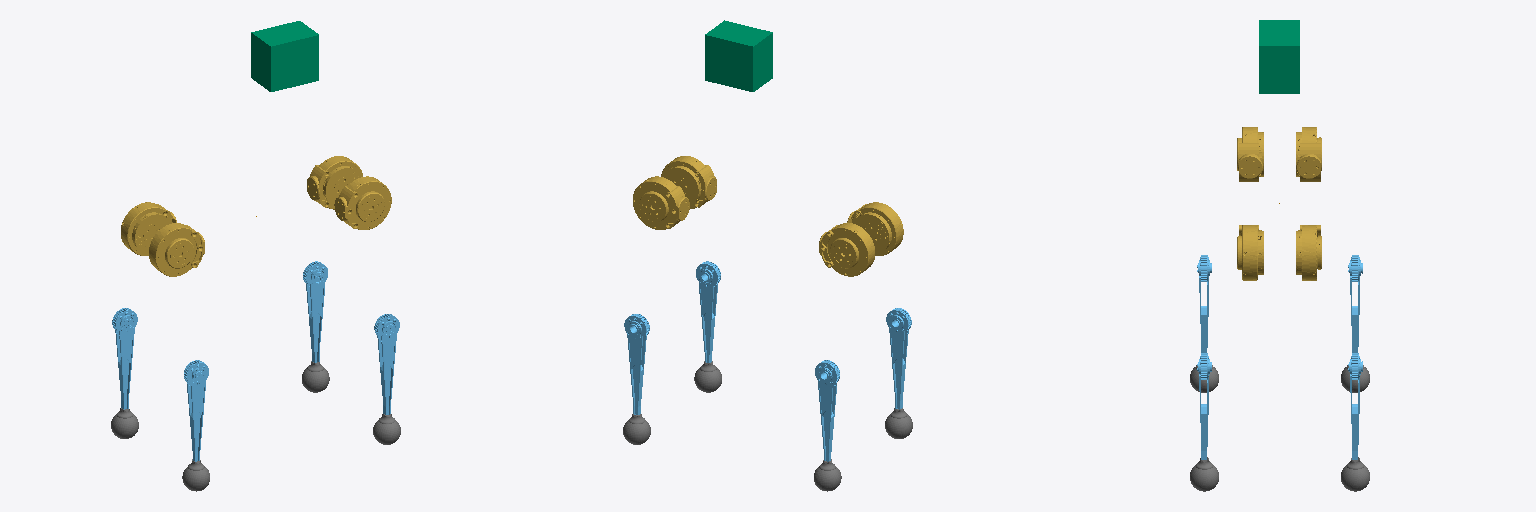
--- What the picture shows (computed from the rendered views, not written in the file) ---
3 views of the same robot in one strip: view 1: azimuth 30°, elevation 25°; view 2: azimuth 150°, elevation 25°; view 3: azimuth 270°, elevation 25° (orthographic).
Robot: yobotics — 20 links, 19 joints (12 revolute, 7 fixed); root link base; default pose: all joints at 0.
Links seen in each view (by area): view 1: camera_link, RR_hip, FR_hip, FL_hip, RL_hip, RL_calf, FR_calf, FL_calf, RR_calf, RL_foot, FR_foot, FL_foot (+1 smaller); view 2: camera_link, RL_hip, FL_hip, RR_hip, FR_hip, RR_calf, FL_calf, RL_calf, FR_calf, RR_foot, FL_foot, FR_foot (+1 smaller); view 3: camera_link, FR_hip, RR_hip, FL_hip, RL_hip, FL_calf, FR_calf, RL_calf, RR_calf, FL_foot, FR_foot.
Boxes of the visible links, bbox=[...] form: camera_link: bbox=[251, 21, 318, 91]; RR_hip: bbox=[149, 223, 204, 276]; FR_hip: bbox=[334, 176, 391, 229]; FL_hip: bbox=[307, 156, 362, 209]; RL_hip: bbox=[121, 202, 176, 255]; RL_calf: bbox=[112, 308, 137, 409]; FR_calf: bbox=[374, 314, 399, 414]; FL_calf: bbox=[303, 261, 327, 362]; RR_calf: bbox=[184, 360, 208, 461]; RL_foot: bbox=[111, 408, 138, 438]; FR_foot: bbox=[373, 414, 400, 444]; FL_foot: bbox=[302, 361, 329, 392]; camera_link: bbox=[705, 20, 772, 91]; RL_hip: bbox=[819, 223, 874, 276]; FL_hip: bbox=[633, 176, 689, 229]; RR_hip: bbox=[847, 202, 903, 255]; FR_hip: bbox=[661, 156, 716, 209]; RR_calf: bbox=[886, 308, 911, 409]; FL_calf: bbox=[624, 314, 649, 414]; RL_calf: bbox=[815, 360, 839, 461]; FR_calf: bbox=[696, 261, 720, 362]; RR_foot: bbox=[885, 408, 912, 438]; FL_foot: bbox=[623, 414, 650, 444]; FR_foot: bbox=[694, 361, 721, 392]; camera_link: bbox=[1259, 20, 1299, 93]; FR_hip: bbox=[1237, 225, 1263, 280]; RR_hip: bbox=[1237, 127, 1263, 181]; FL_hip: bbox=[1296, 225, 1321, 280]; RL_hip: bbox=[1296, 127, 1321, 181]; FL_calf: bbox=[1348, 353, 1362, 459]; FR_calf: bbox=[1197, 353, 1211, 459]; RL_calf: bbox=[1348, 255, 1362, 352]; RR_calf: bbox=[1197, 255, 1211, 352]; FL_foot: bbox=[1341, 457, 1369, 491]; FR_foot: bbox=[1190, 457, 1218, 491].
Size in the robot's own frame: 0.4859 by 0.3042 by 0.7861 metres.
Meshes: 5 distinct files referenced, 12 mesh visuals loaded (3 binary STL); not drawn: 5 (reference not matched to a file when rendering).

The robot description file, URDF, robot "yobotics":
<?xml version="1.0" ?>
<!-- =================================================================================== -->
<!-- |    This document was autogenerated by xacro from mrobot_with_kinect.urdf.xacro  | -->
<!-- |    EDITING THIS FILE BY HAND IS NOT RECOMMENDED                                 | -->
<!-- =================================================================================== -->
<robot name="yobotics" xmlns:xacro="http://www.ros.org/wiki/xacro">
  <!-- joint limits -->
  <!-- <xacro:property name="damping" value="0"/>
    <xacro:property name="friction" value="0"/>
    <xacro:property name="hip_max" value="120"/>
    <xacro:property name="hip_min" value="-120"/>
    <xacro:property name="hip_velocity_max" value="52.4"/>
    <xacro:property name="hip_torque_max" value="20"/>
    <xacro:property name="thigh_max" value="270"/>
    <xacro:property name="thigh_min" value="-270"/>
    <xacro:property name="thigh_velocity_max" value="28.6"/>
    <xacro:property name="thigh_torque_max" value="55"/>
    <xacro:property name="calf_max" value="155"/>
    <xacro:property name="calf_min" value="-155"/>
    <xacro:property name="calf_velocity_max" value="28.6"/>
    <xacro:property name="calf_torque_max" value="55"/> -->
  <material name="black">
    <color rgba="0.0 0.0 0.0 1.0"/>
  </material>
  <material name="blue">
    <color rgba="0.0 0.0 0.8 1.0"/>
  </material>
  <material name="green">
    <color rgba="0.0 0.8 0.0 1.0"/>
  </material>
  <material name="grey">
    <color rgba="0.2 0.2 0.2 1.0"/>
  </material>
  <material name="silver">
    <color rgba="0.913725490196 0.913725490196 0.847058823529 1.0"/>
  </material>
  <material name="orange">
    <color rgba="1.0 0.423529411765 0.0392156862745 1.0"/>
  </material>
  <material name="brown">
    <color rgba="0.870588235294 0.811764705882 0.764705882353 1.0"/>
  </material>
  <material name="white_gray">
    <color rgba="0.823529411765 0.823529411765 0.823529411765 1.0"/>
  </material>
  <material name="gold">
    <color rgba="0.811764705882 0.678431372549 0.301960784314 1.0"/>
  </material>
  <material name="white_blue">
    <color rgba="0.462745098039 0.8 0.992156862745 1.0"/>
  </material>
  <material name="white_black">
    <color rgba="0.494117647059 0.494117647059 0.494117647059 1.0"/>
  </material>
  <material name="red">
    <color rgba="0.8 0.0 0.0 1.0"/>
  </material>
  <material name="white">
    <color rgba="1.0 1.0 1.0 1.0"/>
  </material>
  <!-- ros_control plugin -->
  <gazebo>
    <plugin filename="libgazebo_ros_control.so" name="gazebo_ros_control">
      <robotNamespace>/yobotics_gazebo</robotNamespace>
      <robotSimType>gazebo_ros_control/DefaultRobotHWSim</robotSimType>
    </plugin>
  </gazebo>
  <!-- Show the trajectory of trunk center. -->
  <gazebo>
    <plugin filename="libLinkPlot3DPlugin.so" name="3dplot">
      <frequency>10</frequency>
      <plot>
        <link>base</link>
        <pose>0 0 0 0 0 0</pose>
        <material>Gazebo/Yellow</material>
      </plot>
    </plugin>
  </gazebo>
  <!-- Show the trajectory of foot. You can add another trajectory about another foot. -->
  <!-- <gazebo>
        <plugin name="3dplot" filename="libLinkPlot3DPlugin.so">
            <frequency>100</frequency>
            <plot>
                <link>FL_foot</link>
                <pose>0 0 0 0 0 0</pose>
                <material>Gazebo/Green</material>
            </plot>
        </plugin>
    </gazebo> -->
  <!-- <gazebo>
        <plugin name="${link_name}_controller" filename="libgazebo_ros_openni_kinect.so">
            <baseline>0.2</baseline>
            <alwaysOn>true</alwaysOn>
            <updateRate>2.0</updateRate>
            <cameraName>${camera_name}_ir</cameraName>
            <imageTopicName>/${camera_name}/depth/image_raw</imageTopicName>
            <cameraInfoTopicName>/${camera_name}/depth/camera_info</cameraInfoTopicName>
            <depthImageTopicName>/${camera_name}/depth/image_raw</depthImageTopicName>
            <depthImageInfoTopicName>/${camera_name}/depth/camera_info</depthImageInfoTopicName>
            <pointCloudTopicName>/${camera_name}/depth/points</pointCloudTopicName>
            <frameName>${frame_name}</frameName>
            <pointCloudCutoff>0.5</pointCloudCutoff>
            <distortionK1>0.00000001</distortionK1>
            <distortionK2>0.00000001</distortionK2>
            <distortionK3>0.00000001</distortionK3>
            <distortionT1>0.00000001</distortionT1>
            <distortionT2>0.00000001</distortionT2>
            <CxPrime>0</CxPrime>
            <Cx>0</Cx>
            <Cy>0</Cy>
            <focalLength>0</focalLength>
            <hackBaseline>0</hackBaseline>
        </plugin>
    </gazebo> -->
  <gazebo>
    <plugin filename="libgazebo_ros_force.so" name="gazebo_ros_force">
      <bodyName>trunk</bodyName>
      <topicName>/apply_force/trunk</topicName>
    </plugin>
  </gazebo>
  <gazebo reference="imu_link">
    <gravity>true</gravity>
    <sensor name="imu_sensor" type="imu">
      <always_on>true</always_on>
      <update_rate>1000</update_rate>
      <visualize>true</visualize>
      <topic>__default_topic__</topic>
      <plugin filename="libgazebo_ros_imu_sensor.so" name="imu_plugin">
        <topicName>trunk_imu</topicName>
        <bodyName>imu_link</bodyName>
        <updateRateHZ>1000.0</updateRateHZ>
        <gaussianNoise>0.0</gaussianNoise>
        <xyzOffset>0 0 0</xyzOffset>
        <rpyOffset>0 0 0</rpyOffset>
        <frameName>imu_link</frameName>
      </plugin>
      <pose>0 0 0 0 0 0</pose>
    </sensor>
  </gazebo>
  <gazebo>
    <plugin filename="libgazebo_ros_p3d.so" name="p3d_base_controller">
      <alwaysOn>true</alwaysOn>
      <updateRate>50.0</updateRate>
      <bodyName>base</bodyName>
      <topicName>odom/ground_truth</topicName>
      <gaussianNoise>0.01</gaussianNoise>
      <frameName>world</frameName>
      <xyzOffsets>0 0 0</xyzOffsets>
      <rpyOffsets>0 0 0</rpyOffsets>
    </plugin>
  </gazebo>
  <gazebo>
    <plugin filename="libgazebo_ros_control.so" name="gazebo_ros_control">
      <legacyModeNS>true</legacyModeNS>
    </plugin>
  </gazebo>
  <!-- Foot contacts. -->
  <!-- <gazebo reference="FR_calf">
        <sensor name="FR_foot_contact" type="contact">
        <update_rate>100</update_rate>
        <plugin name="contactPlugin" filename="libyoboticsFootContactPlugin.so"/>
        <contact>
            <collision>FR_calf_fixed_joint_lump__FR_foot_collision_1</collision>
        </contact>
        </sensor>
    </gazebo>
    <gazebo reference="FL_calf">
        <sensor name="FL_foot_contact" type="contact">
        <update_rate>100</update_rate>
        <plugin name="contactPlugin" filename="libyoboticsFootContactPlugin.so"/>
        <contact>
            <collision>FL_calf_fixed_joint_lump__FL_foot_collision_1</collision>
        </contact>
        </sensor>
    </gazebo>
    <gazebo reference="RR_calf">
        <sensor name="RR_foot_contact" type="contact">
        <update_rate>100</update_rate>
        <plugin name="contactPlugin" filename="libyoboticsFootContactPlugin.so"/>
        <contact>
            <collision>RR_calf_fixed_joint_lump__RR_foot_collision_1</collision>
        </contact>
        </sensor>
    </gazebo>
    <gazebo reference="RL_calf">
        <sensor name="RL_foot_contact" type="contact">
        <update_rate>100</update_rate>
        <plugin name="contactPlugin" filename="libyoboticsFootContactPlugin.so"/>
        <contact>
            <collision>RL_calf_fixed_joint_lump__RL_foot_collision_1</collision>
        </contact>
        </sensor>
    </gazebo>   -->
  <!-- Visualization of Foot contacts. -->
  <!-- <gazebo reference="FR_foot">
        <visual>
            <plugin name="drawForcePlugin" filename="libyoboticsDrawForcePlugin.so">
                <topicName>FR_foot_contact</topicName>
            </plugin>
        </visual>
    </gazebo>
    <gazebo reference="FL_foot">
        <visual>
            <plugin name="drawForcePlugin" filename="libyoboticsDrawForcePlugin.so">
                <topicName>FL_foot_contact</topicName>
            </plugin>
        </visual>
    </gazebo>
    <gazebo reference="RR_foot">
        <visual>
            <plugin name="drawForcePlugin" filename="libyoboticsDrawForcePlugin.so">
                <topicName>RR_foot_contact</topicName>
            </plugin>
        </visual>
    </gazebo>
    <gazebo reference="RL_foot">
        <visual>
            <plugin name="drawForcePlugin" filename="libyoboticsDrawForcePlugin.so">
                <topicName>RL_foot_contact</topicName>
            </plugin>
        </visual>
    </gazebo>  -->
  <gazebo reference="base">
    <material>Gazebo/Green</material>
    <turnGravityOff>false</turnGravityOff>
  </gazebo>
  <gazebo reference="trunk">
    <mu1>0.9</mu1>
    <mu2>0.9</mu2>
    <kp value="1000000.0"/>
    <kd value="1.0"/>
  </gazebo>
  <gazebo reference="stick_link">
    <mu1>0.9</mu1>
    <mu2>0.9</mu2>
    <material>Gazebo/White</material>
  </gazebo>
  <gazebo reference="imu_link">
    <mu1>0.9</mu1>
    <mu2>0.9</mu2>
    <material>Gazebo/Red</material>
  </gazebo>
  <!-- FL leg -->
  <gazebo reference="FL_hip">
    <mu1>0.9</mu1>
    <mu2>0.9</mu2>
    <!-- <material>Gazebo/DarkGrey</material> -->
  </gazebo>
  <gazebo reference="FL_thigh">
    <mu1>0.9</mu1>
    <mu2>0.9</mu2>
    <self_collide>1</self_collide>
    <material>Gazebo/White</material>
    <kp value="1000000.0"/>
    <kd value="1.0"/>
  </gazebo>
  <gazebo reference="FL_calf">
    <mu1>0.9</mu1>
    <mu2>0.9</mu2>
    <self_collide>1</self_collide>
  </gazebo>
  <gazebo reference="FL_foot">
    <mu1>0.9</mu1>
    <mu2>0.9</mu2>
    <self_collide>1</self_collide>
    <material>Gazebo/DarkGrey</material>
    <kp value="1000000.0"/>
    <kd value="1.0"/>
  </gazebo>
  <!-- FR leg -->
  <gazebo reference="FR_hip">
    <mu1>0.9</mu1>
    <mu2>0.9</mu2>
    <!-- <material>Gazebo/DarkGrey</material> -->
  </gazebo>
  <gazebo reference="FR_thigh">
    <mu1>0.9</mu1>
    <mu2>0.9</mu2>
    <self_collide>1</self_collide>
    <material>Gazebo/White</material>
    <kp value="1000000.0"/>
    <kd value="1.0"/>
  </gazebo>
  <gazebo reference="FR_calf">
    <mu1>0.9</mu1>
    <mu2>0.9</mu2>
    <self_collide>1</self_collide>
  </gazebo>
  <gazebo reference="FR_foot">
    <mu1>0.9</mu1>
    <mu2>0.9</mu2>
    <self_collide>1</self_collide>
    <material>Gazebo/DarkGrey</material>
    <kp value="1000000.0"/>
    <kd value="1.0"/>
  </gazebo>
  <!-- RL leg -->
  <gazebo reference="RL_hip">
    <mu1>0.9</mu1>
    <mu2>0.9</mu2>
    <!-- <material>Gazebo/DarkGrey</material> -->
  </gazebo>
  <gazebo reference="RL_thigh">
    <mu1>0.9</mu1>
    <mu2>0.9</mu2>
    <self_collide>1</self_collide>
    <material>Gazebo/White</material>
    <kp value="1000000.0"/>
    <kd value="1.0"/>
  </gazebo>
  <gazebo reference="RL_calf">
    <mu1>0.9</mu1>
    <mu2>0.9</mu2>
    <self_collide>1</self_collide>
  </gazebo>
  <gazebo reference="RL_foot">
    <mu1>0.9</mu1>
    <mu2>0.9</mu2>
    <self_collide>1</self_collide>
    <material>Gazebo/DarkGrey</material>
    <kp value="1000000.0"/>
    <kd value="1.0"/>
  </gazebo>
  <!-- RR leg -->
  <gazebo reference="RR_hip">
    <mu1>0.9</mu1>
    <mu2>0.9</mu2>
    <!-- <material>Gazebo/Gold</material> -->
  </gazebo>
  <gazebo reference="RR_thigh">
    <mu1>0.9</mu1>
    <mu2>0.9</mu2>
    <self_collide>1</self_collide>
    <material>Gazebo/White</material>
    <kp value="1000000.0"/>
    <kd value="1.0"/>
  </gazebo>
  <gazebo reference="RR_calf">
    <mu1>0.9</mu1>
    <mu2>0.9</mu2>
    <self_collide>1</self_collide>
  </gazebo>
  <gazebo reference="RR_foot">
    <mu1>0.9</mu1>
    <mu2>0.9</mu2>
    <self_collide>1</self_collide>
    <material>Gazebo/DarkGrey</material>
    <kp value="1000000.0"/>
    <kd value="1.0"/>
  </gazebo>
  <!-- Debug mode will hung up the robot, use "true" or "false" to switch it. -->
  <link name="base">
    <visual>
      <origin rpy="0 0 0" xyz="0 0 0"/>
      <geometry>
        <box size="0.001 0.001 0.001"/>
      </geometry>
    </visual>
  </link>
  <joint name="floating_base" type="fixed">
    <origin rpy="0 0 0" xyz="0 0 0"/>
    <parent link="base"/>
    <child link="trunk"/>
  </joint>
  <link name="trunk">
    <visual>
      <origin rpy="0 0 0" xyz="0 0 0"/>
      <geometry>
        <mesh filename="package://yobotics_description/meshes/trunk.STL" scale="1 1 1"/>
      </geometry>
      <material name="white_gray"/>
    </visual>
    <collision>
      <origin rpy="0 0 0" xyz="0 0 0.04592"/>
      <geometry>
        <mesh filename="package://yobotics_description/meshes/trunk.STL" scale="1 1 1"/>
        <!-- <box size="${trunk_length} ${trunk_width} ${trunk_height}"/> -->
      </geometry>
    </collision>
    <inertial>
      <origin rpy="0 0 0" xyz="0.0 0.0 0.0"/>
      <mass value="3.3"/>
      <inertia ixx="0.011253" ixy="0" ixz="0.0" iyy="0.036203" iyz="-0.0" izz="0.042673"/>
    </inertial>
  </link>
  <!-- //////////////////////hip//////////////////// -->
  <joint name="RL_hip_joint" type="revolute">
    <!-- <joint name="${name}_hip_joint" type="continuous"> -->
    <origin rpy="0 0 0" xyz="-0.196 0.049664 0"/>
    <parent link="trunk"/>
    <child link="RL_hip"/>
    <axis xyz="1 0 0"/>
    <dynamics damping="0" friction="0"/>
    <limit effort="15" lower="-0.872664625997" upper="1.0471975512" velocity="1.5"/>
  </joint>
  <link name="RL_hip">
    <visual>
      <origin rpy="3.14159265359 0 0" xyz="0 0 0"/>
      <geometry>
        <mesh filename="package://yobotics_description/meshes/hip.STL" scale="1 1 1"/>
      </geometry>
      <material name="gold"/>
    </visual>
    <collision>
      <origin rpy="3.14159265359 0 0" xyz="0 0 0"/>
      <geometry>
        <mesh filename="package://yobotics_description/meshes/hip.STL" scale="1 1 1"/>
      </geometry>
    </collision>
    <inertial>
      <origin rpy="0 0 0" xyz="0.0 -0.036 0.0"/>
      <mass value="0.57"/>
      <inertia ixx="0.000381" ixy="-5.8e-05" ixz="4.5e-07" iyy="0.00056" iyz="-9.5e-07" izz="0.000444"/>
    </inertial>
  </link>
  <!-- //////////////////////thigh//////////////////// -->
  <joint name="RL_thigh_joint" type="revolute">
    <!-- <joint name="${name}_thigh_joint" type="continuous"> -->
    <origin rpy="0 0 0" xyz="0 0.077476 0"/>
    <parent link="RL_hip"/>
    <child link="RL_thigh"/>
    <axis xyz="0 1 0"/>
    <dynamics damping="0" friction="0"/>
    <limit effort="15" lower="-0.523598775598" upper="3.92699081699" velocity="1.5"/>
  </joint>
  <link name="RL_thigh">
    <visual>
      <origin rpy="3.14159265359 3.14159265359 0" xyz="0 0 0"/>
      <geometry>
        <mesh filename="package://yobotics_description/meshes/thigh.STL" scale="1 1 1"/>
      </geometry>
      <material name="white_blue"/>
    </visual>
    <collision>
      <origin rpy="3.14159265359 3.14159265359 0" xyz="0 0 0"/>
      <geometry>
        <mesh filename="package://yobotics_description/meshes/thigh.STL" scale="1 1 1"/>
      </geometry>
      <material name="white_blue"/>
    </collision>
    <inertial>
      <origin rpy="0 0 0" xyz="0.0 -0.016 -0.02"/>
      <mass value="0.634"/>
      <inertia ixx="0.001983" ixy="-0.000245" ixz="1.3e-05" iyy="0.002103" iyz="-1.5e-06" izz="0.000408"/>
    </inertial>
  </link>
  <!-- //////////////////////calf//////////////////// -->
  <joint name="RL_calf_joint" type="revolute">
    <!-- <joint name="${name}_calf_joint" type="continuous"> -->
    <origin rpy="0 0 0" xyz="0 0.0106 -0.2115"/>
    <parent link="RL_thigh"/>
    <child link="RL_calf"/>
    <axis xyz="0 1 0"/>
    <dynamics damping="0" friction="0"/>
    <!-- <limit effort="${calf_torque_max}" velocity="${calf_velocity_max}" lower="${calf_min*PI/180.0}" upper="${calf_max*PI/180.0}"/> -->
    <limit effort="15" lower="-3.14159265359" upper="3.14159265359" velocity="1.5"/>
  </joint>
  <link name="RL_calf">
    <visual>
      <origin rpy="0 0 0" xyz="0.0 0.0 0.0"/>
      <geometry>
        <mesh filename="package://yobotics_description/meshes/calf.STL" scale="1 1 1"/>
      </geometry>
      <material name="white_blue"/>
    </visual>
    <collision>
      <origin rpy="0 0 0" xyz="0.0 0.0 0.0"/>
      <geometry>
        <mesh filename="package://yobotics_description/meshes/calf.STL" scale="1 1 1"/>
      </geometry>
    </collision>
    <inertial>
      <origin rpy="0 0 0" xyz="0.0 0.0 -0.209"/>
      <mass value="0.064"/>
      <inertia ixx="0.000245" ixy="0.0" ixz="0.0" iyy="0.000248" iyz="0.0" izz="6e-06"/>
    </inertial>
  </link>
  <!-- //////////////////////foot//////////////////// -->
  <joint name="RL_foot_fixed" type="fixed">
    <origin rpy="0 0 0" xyz="0 0.0096 -0.21039"/>
    <parent link="RL_calf"/>
    <child link="RL_foot"/>
  </joint>
  <link name="RL_foot">
    <visual>
      <origin rpy="0 0 0" xyz="0 0 0"/>
      <geometry>
        <mesh filename="package://yobotics_description/meshes/foot.STL" scale="1 1 1"/>
      </geometry>
      <material name="white_black"/>
    </visual>
    <collision>
      <origin rpy="0 0 0" xyz="0 0 0"/>
      <geometry>
        <mesh filename="package://yobotics_description/meshes/foot.STL" scale="1 1 1"/>
      </geometry>
    </collision>
    <inertial>
      <origin rpy="0 0 0" xyz="0.0 0.0 0"/>
      <mass value="0.15"/>
      <inertia ixx="2.5e-05" ixy="0.0" ixz="0.0" iyy="2.5e-05" iyz="0.0" izz="2.5e-05"/>
    </inertial>
  </link>
  <transmission name="RL_hip_tran">
    <type>transmission_interface/SimpleTransmission</type>
    <joint name="RL_hip_joint">
      <hardwareInterface>EffortJointInterface</hardwareInterface>
    </joint>
    <actuator name="RL_hip_motor">
      <hardwareInterface>EffortJointInterface</hardwareInterface>
      <mechanicalReduction>1</mechanicalReduction>
    </actuator>
  </transmission>
  <transmission name="RL_thigh_tran">
    <type>transmission_interface/SimpleTransmission</type>
    <joint name="RL_thigh_joint">
      <hardwareInterface>EffortJointInterface</hardwareInterface>
    </joint>
    <actuator name="RL_thigh_motor">
      <hardwareInterface>EffortJointInterface</hardwareInterface>
      <mechanicalReduction>1</mechanicalReduction>
    </actuator>
  </transmission>
  <transmission name="RL_calf_tran">
    <type>transmission_interface/SimpleTransmission</type>
    <joint name="RL_calf_joint">
      <hardwareInterface>EffortJointInterface</hardwareInterface>
    </joint>
    <actuator name="RL_calf_motor">
      <hardwareInterface>EffortJointInterface</hardwareInterface>
      <mechanicalReduction>1</mechanicalReduction>
    </actuator>
  </transmission>
  <!-- //////////////////////hip//////////////////// -->
  <joint name="FL_hip_joint" type="revolute">
    <!-- <joint name="${name}_hip_joint" type="continuous"> -->
    <origin rpy="0 0 0" xyz="0.196 0.049664 0"/>
    <parent link="trunk"/>
    <child link="FL_hip"/>
    <axis xyz="1 0 0"/>
    <dynamics damping="0" friction="0"/>
    <limit effort="15" lower="-0.872664625997" upper="1.0471975512" velocity="1.5"/>
  </joint>
  <link name="FL_hip">
    <visual>
      <origin rpy="3.14159265359 3.14159265359 0" xyz="0 0 0"/>
      <geometry>
        <mesh filename="package://yobotics_description/meshes/hip.STL" scale="1 1 1"/>
      </geometry>
      <material name="gold"/>
    </visual>
    <collision>
      <origin rpy="3.14159265359 3.14159265359 0" xyz="0 0 0"/>
      <geometry>
        <mesh filename="package://yobotics_description/meshes/hip.STL" scale="1 1 1"/>
      </geometry>
    </collision>
    <inertial>
      <origin rpy="0 0 0" xyz="-0.0 -0.036 0.0"/>
      <mass value="0.57"/>
      <inertia ixx="0.000381" ixy="5.8e-05" ixz="-4.5e-07" iyy="0.00056" iyz="-9.5e-07" izz="0.000444"/>
    </inertial>
  </link>
  <!-- //////////////////////thigh//////////////////// -->
  <joint name="FL_thigh_joint" type="revolute">
    <!-- <joint name="${name}_thigh_joint" type="continuous"> -->
    <origin rpy="0 0 0" xyz="0 0.077476 0"/>
    <parent link="FL_hip"/>
    <child link="FL_thigh"/>
    <axis xyz="0 1 0"/>
    <dynamics damping="0" friction="0"/>
    <limit effort="15" lower="-0.523598775598" upper="3.92699081699" velocity="1.5"/>
  </joint>
  <link name="FL_thigh">
    <visual>
      <origin rpy="3.14159265359 3.14159265359 0" xyz="0 0 0"/>
      <geometry>
        <mesh filename="package://yobotics_description/meshes/thigh.STL" scale="1 1 1"/>
      </geometry>
      <material name="white_blue"/>
    </visual>
    <collision>
      <origin rpy="3.14159265359 3.14159265359 0" xyz="0 0 0"/>
      <geometry>
        <mesh filename="package://yobotics_description/meshes/thigh.STL" scale="1 1 1"/>
      </geometry>
      <material name="white_blue"/>
    </collision>
    <inertial>
      <origin rpy="0 0 0" xyz="0.0 -0.016 -0.02"/>
      <mass value="0.634"/>
      <inertia ixx="0.001983" ixy="-0.000245" ixz="1.3e-05" iyy="0.002103" iyz="-1.5e-06" izz="0.000408"/>
    </inertial>
  </link>
  <!-- //////////////////////calf//////////////////// -->
  <joint name="FL_calf_joint" type="revolute">
    <!-- <joint name="${name}_calf_joint" type="continuous"> -->
    <origin rpy="0 0 0" xyz="0 0.0106 -0.2115"/>
    <parent link="FL_thigh"/>
    <child link="FL_calf"/>
    <axis xyz="0 1 0"/>
    <dynamics damping="0" friction="0"/>
    <!-- <limit effort="${calf_torque_max}" velocity="${calf_velocity_max}" lower="${calf_min*PI/180.0}" upper="${calf_max*PI/180.0}"/> -->
    <limit effort="15" lower="-3.14159265359" upper="3.14159265359" velocity="1.5"/>
  </joint>
  <link name="FL_calf">
    <visual>
      <origin rpy="0 0 0" xyz="0.0 0.0 0.0"/>
      <geometry>
        <mesh filename="package://yobotics_description/meshes/calf.STL" scale="1 1 1"/>
      </geometry>
      <material name="white_blue"/>
    </visual>
    <collision>
      <origin rpy="0 0 0" xyz="0.0 0.0 0.0"/>
      <geometry>
        <mesh filename="package://yobotics_description/meshes/calf.STL" scale="1 1 1"/>
      </geometry>
    </collision>
    <inertial>
      <origin rpy="0 0 0" xyz="0.0 0.0 -0.209"/>
      <mass value="0.064"/>
      <inertia ixx="0.000245" ixy="0.0" ixz="0.0" iyy="0.000248" iyz="0.0" izz="6e-06"/>
    </inertial>
  </link>
  <!-- //////////////////////foot//////////////////// -->
  <joint name="FL_foot_fixed" type="fixed">
    <origin rpy="0 0 0" xyz="0 0.0096 -0.21039"/>
    <parent link="FL_calf"/>
    <child link="FL_foot"/>
  </joint>
  <link name="FL_foot">
    <visual>
      <origin rpy="0 0 0" xyz="0 0 0"/>
      <geometry>
        <mesh filename="package://yobotics_description/meshes/foot.STL" scale="1 1 1"/>
      </geometry>
      <material name="white_black"/>
    </visual>
    <collision>
      <origin rpy="0 0 0" xyz="0 0 0"/>
      <geometry>
        <mesh filename="package://yobotics_description/meshes/foot.STL" scale="1 1 1"/>
      </geometry>
    </collision>
    <inertial>
      <origin rpy="0 0 0" xyz="0.0 0.0 0"/>
      <mass value="0.15"/>
      <inertia ixx="2.5e-05" ixy="0.0" ixz="0.0" iyy="2.5e-05" iyz="0.0" izz="2.5e-05"/>
    </inertial>
  </link>
  <transmission name="FL_hip_tran">
    <type>transmission_interface/SimpleTransmission</type>
    <joint name="FL_hip_joint">
      <hardwareInterface>EffortJointInterface</hardwareInterface>
    </joint>
    <actuator name="FL_hip_motor">
      <hardwareInterface>EffortJointInterface</hardwareInterface>
      <mechanicalReduction>1</mechanicalReduction>
    </actuator>
  </transmission>
  <transmission name="FL_thigh_tran">
    <type>transmission_interface/SimpleTransmission</type>
    <joint name="FL_thigh_joint">
      <hardwareInterface>EffortJointInterface</hardwareInterface>
    </joint>
    <actuator name="FL_thigh_motor">
      <hardwareInterface>EffortJointInterface</hardwareInterface>
      <mechanicalReduction>1</mechanicalReduction>
    </actuator>
  </transmission>
  <transmission name="FL_calf_tran">
    <type>transmission_interface/SimpleTransmission</type>
    <joint name="FL_calf_joint">
      <hardwareInterface>EffortJointInterface</hardwareInterface>
    </joint>
    <actuator name="FL_calf_motor">
      <hardwareInterface>EffortJointInterface</hardwareInterface>
      <mechanicalReduction>1</mechanicalReduction>
    </actuator>
  </transmission>
  <!-- //////////////////////hip//////////////////// -->
  <joint name="RR_hip_joint" type="revolute">
    <!-- <joint name="${name}_hip_joint" type="continuous"> -->
    <origin rpy="0 0 0" xyz="-0.196 -0.049664 0"/>
    <parent link="trunk"/>
    <child link="RR_hip"/>
    <axis xyz="1 0 0"/>
    <dynamics damping="0" friction="0"/>
    <limit effort="15" lower="-1.0471975512" upper="0.872664625997" velocity="1.5"/>
  </joint>
  <link name="RR_hip">
    <visual>
      <origin rpy="0 0 0" xyz="0 0 0"/>
      <geometry>
        <mesh filename="package://yobotics_description/meshes/hip.STL" scale="1 1 1"/>
      </geometry>
      <material name="gold"/>
    </visual>
    <collision>
      <origin rpy="0 0 0" xyz="0 0 0"/>
      <geometry>
        <mesh filename="package://yobotics_description/meshes/hip.STL" scale="1 1 1"/>
      </geometry>
    </collision>
    <inertial>
      <origin rpy="0 0 0" xyz="0.0 0.036 0.0"/>
      <mass value="0.57"/>
      <inertia ixx="0.000381" ixy="5.8e-05" ixz="4.5e-07" iyy="0.00056" iyz="9.5e-07" izz="0.000444"/>
    </inertial>
  </link>
  <!-- //////////////////////thigh//////////////////// -->
  <joint name="RR_thigh_joint" type="revolute">
    <!-- <joint name="${name}_thigh_joint" type="continuous"> -->
    <origin rpy="0 0 0" xyz="0 -0.077476 0"/>
    <parent link="RR_hip"/>
    <child link="RR_thigh"/>
    <axis xyz="0 1 0"/>
    <dynamics damping="0" friction="0"/>
    <limit effort="15" lower="-0.523598775598" upper="3.92699081699" velocity="1.5"/>
  </joint>
  <link name="RR_thigh">
    <visual>
      <origin rpy="0 0 0" xyz="0 0 0"/>
      <geometry>
        <mesh filename="package://yobotics_description/meshes/thigh.STL" scale="1 1 1"/>
      </geometry>
      <material name="white_blue"/>
    </visual>
    <collision>
      <origin rpy="0 0 0" xyz="0 0 0"/>
      <geometry>
        <mesh filename="package://yobotics_description/meshes/thigh.STL" scale="1 1 1"/>
      </geometry>
      <material name="white_blue"/>
    </collision>
    <inertial>
      <origin rpy="0 0 0" xyz="0.0 0.016 -0.02"/>
      <mass value="0.634"/>
      <inertia ixx="0.001983" ixy="0.000245" ixz="1.3e-05" iyy="0.002103" iyz="1.5e-06" izz="0.000408"/>
    </inertial>
  </link>
  <!-- //////////////////////calf//////////////////// -->
  <joint name="RR_calf_joint" type="revolute">
    <!-- <joint name="${name}_calf_joint" type="continuous"> -->
    <origin rpy="0 0 0" xyz="0 0.0106 -0.2115"/>
    <parent link="RR_thigh"/>
    <child link="RR_calf"/>
    <axis xyz="0 1 0"/>
    <dynamics damping="0" friction="0"/>
    <!-- <limit effort="${calf_torque_max}" velocity="${calf_velocity_max}" lower="${calf_min*PI/180.0}" upper="${calf_max*PI/180.0}"/> -->
    <limit effort="15" lower="-3.14159265359" upper="3.14159265359" velocity="1.5"/>
  </joint>
  <link name="RR_calf">
    <visual>
      <origin rpy="0 0 0" xyz="0.0 0.0 0.0"/>
      <geometry>
        <mesh filename="package://yobotics_description/meshes/calf.STL" scale="1 1 1"/>
      </geometry>
      <material name="white_blue"/>
    </visual>
    <collision>
      <origin rpy="0 0 0" xyz="0.0 0.0 0.0"/>
      <geometry>
        <mesh filename="package://yobotics_description/meshes/calf.STL" scale="1 1 1"/>
      </geometry>
    </collision>
    <inertial>
      <origin rpy="0 0 0" xyz="0.0 0.0 -0.209"/>
      <mass value="0.064"/>
      <inertia ixx="0.000245" ixy="0.0" ixz="0.0" iyy="0.000248" iyz="0.0" izz="6e-06"/>
    </inertial>
  </link>
  <!-- //////////////////////foot//////////////////// -->
  <joint name="RR_foot_fixed" type="fixed">
    <origin rpy="0 0 0" xyz="0 0.0096 -0.21039"/>
    <parent link="RR_calf"/>
    <child link="RR_foot"/>
  </joint>
  <link name="RR_foot">
    <visual>
      <origin rpy="0 0 0" xyz="0 0 0"/>
      <geometry>
        <mesh filename="package://yobotics_description/meshes/foot.STL" scale="1 1 1"/>
      </geometry>
      <material name="white_black"/>
    </visual>
    <collision>
      <origin rpy="0 0 0" xyz="0 0 0"/>
      <geometry>
        <mesh filename="package://yobotics_description/meshes/foot.STL" scale="1 1 1"/>
      </geometry>
    </collision>
    <inertial>
      <origin rpy="0 0 0" xyz="0.0 0.0 0"/>
      <mass value="0.15"/>
      <inertia ixx="2.5e-05" ixy="0.0" ixz="0.0" iyy="2.5e-05" iyz="0.0" izz="2.5e-05"/>
    </inertial>
  </link>
  <transmission name="RR_hip_tran">
    <type>transmission_interface/SimpleTransmission</type>
    <joint name="RR_hip_joint">
      <hardwareInterface>EffortJointInterface</hardwareInterface>
    </joint>
    <actuator name="RR_hip_motor">
      <hardwareInterface>EffortJointInterface</hardwareInterface>
      <mechanicalReduction>1</mechanicalReduction>
    </actuator>
  </transmission>
  <transmission name="RR_thigh_tran">
    <type>transmission_interface/SimpleTransmission</type>
    <joint name="RR_thigh_joint">
      <hardwareInterface>EffortJointInterface</hardwareInterface>
    </joint>
    <actuator name="RR_thigh_motor">
      <hardwareInterface>EffortJointInterface</hardwareInterface>
      <mechanicalReduction>1</mechanicalReduction>
    </actuator>
  </transmission>
  <transmission name="RR_calf_tran">
    <type>transmission_interface/SimpleTransmission</type>
    <joint name="RR_calf_joint">
      <hardwareInterface>EffortJointInterface</hardwareInterface>
    </joint>
    <actuator name="RR_calf_motor">
      <hardwareInterface>EffortJointInterface</hardwareInterface>
      <mechanicalReduction>1</mechanicalReduction>
    </actuator>
  </transmission>
  <!-- //////////////////////hip//////////////////// -->
  <joint name="FR_hip_joint" type="revolute">
    <!-- <joint name="${name}_hip_joint" type="continuous"> -->
    <origin rpy="0 0 0" xyz="0.196 -0.049664 0"/>
    <parent link="trunk"/>
    <child link="FR_hip"/>
    <axis xyz="1 0 0"/>
    <dynamics damping="0" friction="0"/>
    <limit effort="15" lower="-1.0471975512" upper="0.872664625997" velocity="1.5"/>
  </joint>
  <link name="FR_hip">
    <visual>
      <origin rpy="0 3.14159265359 0" xyz="0 0 0"/>
      <geometry>
        <mesh filename="package://yobotics_description/meshes/hip.STL" scale="1 1 1"/>
      </geometry>
      <material name="gold"/>
    </visual>
    <collision>
      <origin rpy="0 3.14159265359 0" xyz="0 0 0"/>
      <geometry>
        <mesh filename="package://yobotics_description/meshes/hip.STL" scale="1 1 1"/>
      </geometry>
    </collision>
    <inertial>
      <origin rpy="0 0 0" xyz="-0.0 0.036 0.0"/>
      <mass value="0.57"/>
      <inertia ixx="0.000381" ixy="-5.8e-05" ixz="-4.5e-07" iyy="0.00056" iyz="9.5e-07" izz="0.000444"/>
    </inertial>
  </link>
  <!-- //////////////////////thigh//////////////////// -->
  <joint name="FR_thigh_joint" type="revolute">
    <!-- <joint name="${name}_thigh_joint" type="continuous"> -->
    <origin rpy="0 0 0" xyz="0 -0.077476 0"/>
    <parent link="FR_hip"/>
    <child link="FR_thigh"/>
    <axis xyz="0 1 0"/>
    <dynamics damping="0" friction="0"/>
    <limit effort="15" lower="-0.523598775598" upper="3.92699081699" velocity="1.5"/>
  </joint>
  <link name="FR_thigh">
    <visual>
      <origin rpy="0 0 0" xyz="0 0 0"/>
      <geometry>
        <mesh filename="package://yobotics_description/meshes/thigh.STL" scale="1 1 1"/>
      </geometry>
      <material name="white_blue"/>
    </visual>
    <collision>
      <origin rpy="0 0 0" xyz="0 0 0"/>
      <geometry>
        <mesh filename="package://yobotics_description/meshes/thigh.STL" scale="1 1 1"/>
      </geometry>
      <material name="white_blue"/>
    </collision>
    <inertial>
      <origin rpy="0 0 0" xyz="0.0 0.016 -0.02"/>
      <mass value="0.634"/>
      <inertia ixx="0.001983" ixy="0.000245" ixz="1.3e-05" iyy="0.002103" iyz="1.5e-06" izz="0.000408"/>
    </inertial>
  </link>
  <!-- //////////////////////calf//////////////////// -->
  <joint name="FR_calf_joint" type="revolute">
    <!-- <joint name="${name}_calf_joint" type="continuous"> -->
    <origin rpy="0 0 0" xyz="0 0.0106 -0.2115"/>
    <parent link="FR_thigh"/>
    <child link="FR_calf"/>
    <axis xyz="0 1 0"/>
    <dynamics damping="0" friction="0"/>
    <!-- <limit effort="${calf_torque_max}" velocity="${calf_velocity_max}" lower="${calf_min*PI/180.0}" upper="${calf_max*PI/180.0}"/> -->
    <limit effort="15" lower="-3.14159265359" upper="3.14159265359" velocity="1.5"/>
  </joint>
  <link name="FR_calf">
    <visual>
      <origin rpy="0 0 0" xyz="0.0 0.0 0.0"/>
      <geometry>
        <mesh filename="package://yobotics_description/meshes/calf.STL" scale="1 1 1"/>
      </geometry>
      <material name="white_blue"/>
    </visual>
    <collision>
      <origin rpy="0 0 0" xyz="0.0 0.0 0.0"/>
      <geometry>
        <mesh filename="package://yobotics_description/meshes/calf.STL" scale="1 1 1"/>
      </geometry>
    </collision>
    <inertial>
      <origin rpy="0 0 0" xyz="0.0 0.0 -0.209"/>
      <mass value="0.064"/>
      <inertia ixx="0.000245" ixy="0.0" ixz="0.0" iyy="0.000248" iyz="0.0" izz="6e-06"/>
    </inertial>
  </link>
  <!-- //////////////////////foot//////////////////// -->
  <joint name="FR_foot_fixed" type="fixed">
    <origin rpy="0 0 0" xyz="0 0.0096 -0.21039"/>
    <parent link="FR_calf"/>
    <child link="FR_foot"/>
  </joint>
  <link name="FR_foot">
    <visual>
      <origin rpy="0 0 0" xyz="0 0 0"/>
      <geometry>
        <mesh filename="package://yobotics_description/meshes/foot.STL" scale="1 1 1"/>
      </geometry>
      <material name="white_black"/>
    </visual>
    <collision>
      <origin rpy="0 0 0" xyz="0 0 0"/>
      <geometry>
        <mesh filename="package://yobotics_description/meshes/foot.STL" scale="1 1 1"/>
      </geometry>
    </collision>
    <inertial>
      <origin rpy="0 0 0" xyz="0.0 0.0 0"/>
      <mass value="0.15"/>
      <inertia ixx="2.5e-05" ixy="0.0" ixz="0.0" iyy="2.5e-05" iyz="0.0" izz="2.5e-05"/>
    </inertial>
  </link>
  <transmission name="FR_hip_tran">
    <type>transmission_interface/SimpleTransmission</type>
    <joint name="FR_hip_joint">
      <hardwareInterface>EffortJointInterface</hardwareInterface>
    </joint>
    <actuator name="FR_hip_motor">
      <hardwareInterface>EffortJointInterface</hardwareInterface>
      <mechanicalReduction>1</mechanicalReduction>
    </actuator>
  </transmission>
  <transmission name="FR_thigh_tran">
    <type>transmission_interface/SimpleTransmission</type>
    <joint name="FR_thigh_joint">
      <hardwareInterface>EffortJointInterface</hardwareInterface>
    </joint>
    <actuator name="FR_thigh_motor">
      <hardwareInterface>EffortJointInterface</hardwareInterface>
      <mechanicalReduction>1</mechanicalReduction>
    </actuator>
  </transmission>
  <transmission name="FR_calf_tran">
    <type>transmission_interface/SimpleTransmission</type>
    <joint name="FR_calf_joint">
      <hardwareInterface>EffortJointInterface</hardwareInterface>
    </joint>
    <actuator name="FR_calf_motor">
      <hardwareInterface>EffortJointInterface</hardwareInterface>
      <mechanicalReduction>1</mechanicalReduction>
    </actuator>
  </transmission>
  <!-- Body of yobotics, with plates, standoffs and Create (including sim sensors) -->
  <robot/>
  <!-- Attach the Kinect -->
  <joint name="kinect_frame_joint" type="fixed">
    <origin rpy="0 0 0" xyz="0.06 0 0.3"/>
    <parent link="trunk"/>
    <child link="camera_link"/>
  </joint>
  <!-- Create kinect reference frame -->
  <!-- Add mesh for kinect -->
  <link name="camera_link">
    <origin rpy="0 0 0" xyz="0 0 0"/>
    <visual>
      <origin rpy="0 0 1.57079632679" xyz="0 0 0"/>
      <geometry>
        <box size="0.07 0.1 0.09"/>
      </geometry>
    </visual>
    <collision>
      <geometry>
        <box size="0.07 0.1 0.09"/>
      </geometry>
    </collision>
  </link>
  <joint name="camera_optical_joint" type="fixed">
    <origin rpy="-1.5708 0 -1.5708" xyz="0 0 0"/>
    <parent link="camera_link"/>
    <child link="camera_frame_optical"/>
  </joint>
  <link name="camera_frame_optical"/>
  <gazebo reference="camera_link">
    <sensor name="camera" type="depth">
      <always_on>true</always_on>
      <update_rate>20.0</update_rate>
      <camera>
        <horizontal_fov>1.0471975512</horizontal_fov>
        <image>
          <format>R8G8B8</format>
          <width>640</width>
          <height>480</height>
        </image>
        <clip>
          <near>0.05</near>
          <far>8.0</far>
        </clip>
      </camera>
      <plugin filename="libgazebo_ros_openni_kinect.so" name="kinect_camera_controller">
        <cameraName>camera</cameraName>
        <alwaysOn>true</alwaysOn>
        <updateRate>10</updateRate>
        <imageTopicName>rgb/image_raw</imageTopicName>
        <depthImageTopicName>depth/image_raw</depthImageTopicName>
        <pointCloudTopicName>depth/points</pointCloudTopicName>
        <cameraInfoTopicName>rgb/camera_info</cameraInfoTopicName>
        <depthImageCameraInfoTopicName>depth/camera_info</depthImageCameraInfoTopicName>
        <frameName>camera_frame_optical</frameName>
        <baseline>0.1</baseline>
        <distortion_k1>0.0</distortion_k1>
        <distortion_k2>0.0</distortion_k2>
        <distortion_k3>0.0</distortion_k3>
        <distortion_t1>0.0</distortion_t1>
        <distortion_t2>0.0</distortion_t2>
        <pointCloudCutoff>0.4</pointCloudCutoff>
      </plugin>
    </sensor>
  </gazebo>
</robot>
